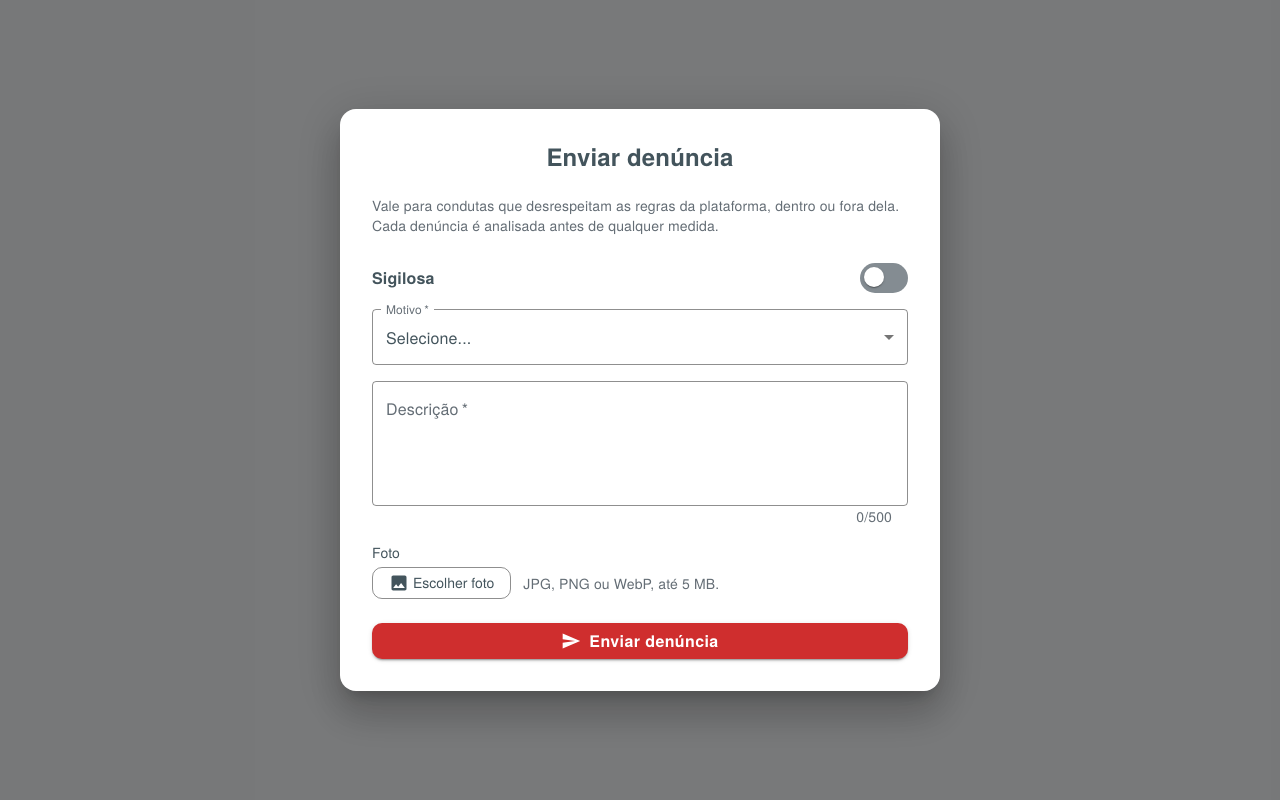
Test: ReportFormDialog › should hold the description to its limit and show how much of it is used
The width and height of the screenshot is (1280, 800).
Click the text box labelled "Descrição *" at coordinates (640, 444), box [386,398,894,490]
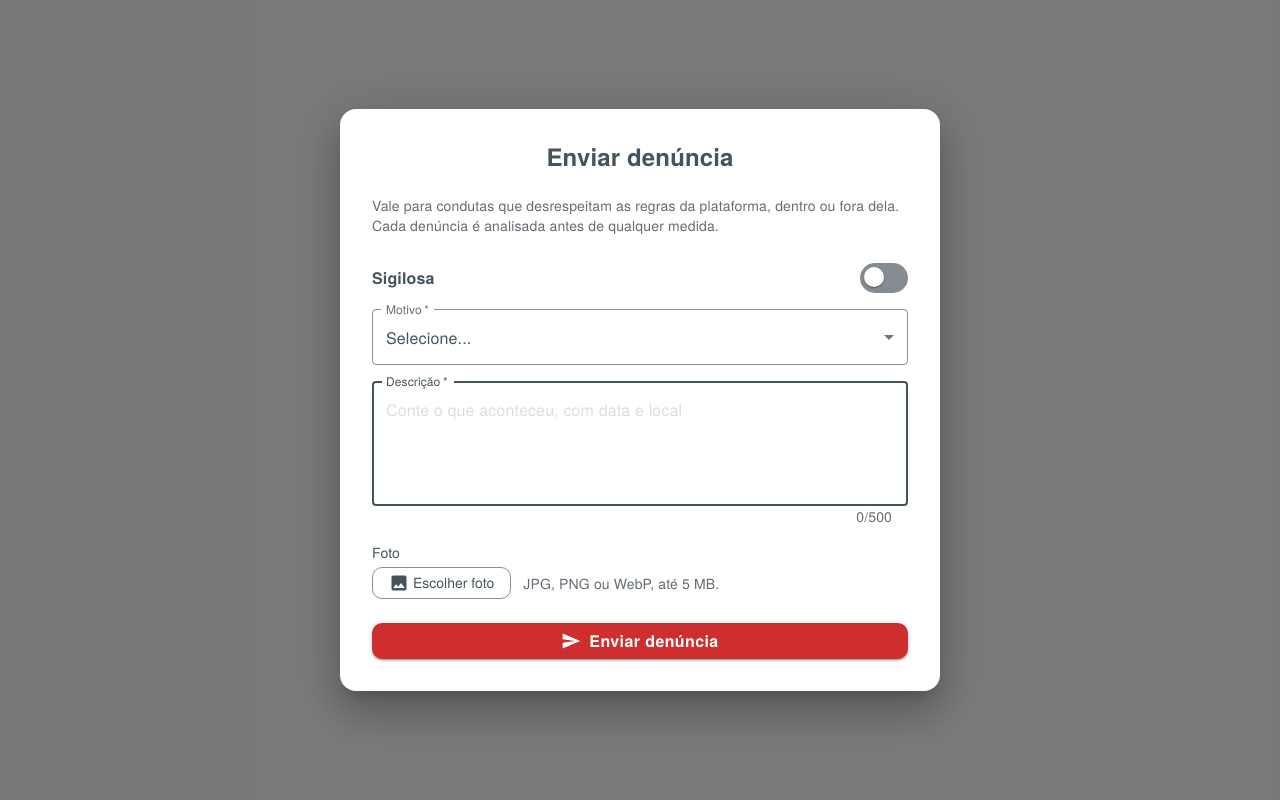
Type keys "A pessoa dirigiu acima da velocidade no trajeto inteiro."
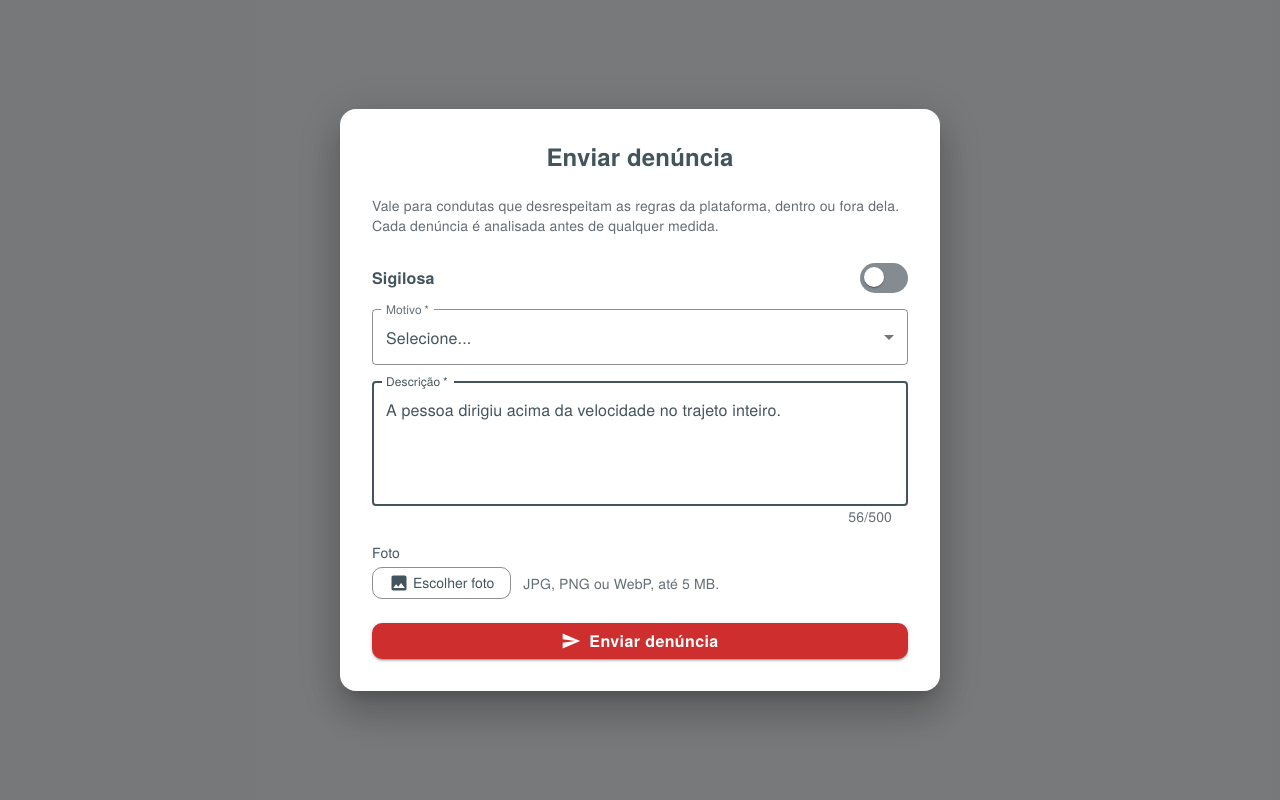
Check: the text "56/500" is shown, box [848,506,892,527]
